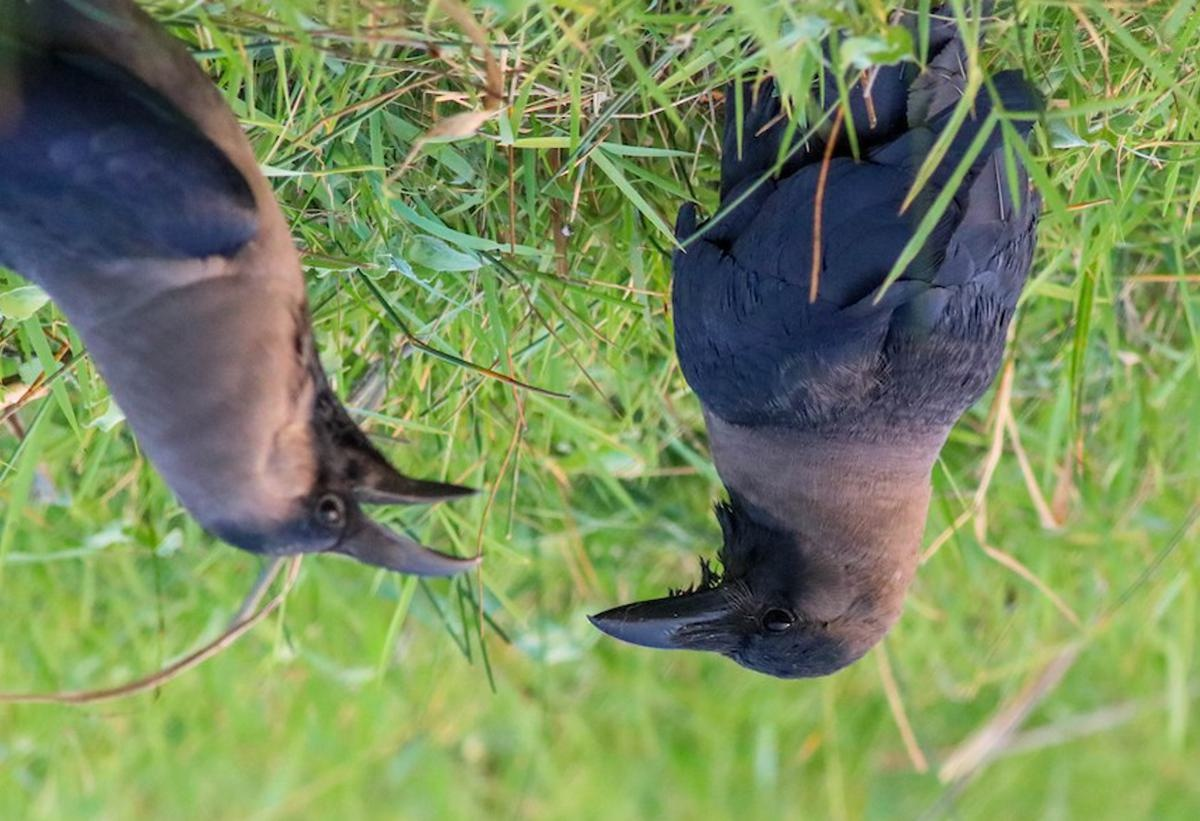crow: (576, 40, 1056, 699), (1, 1, 492, 597)
